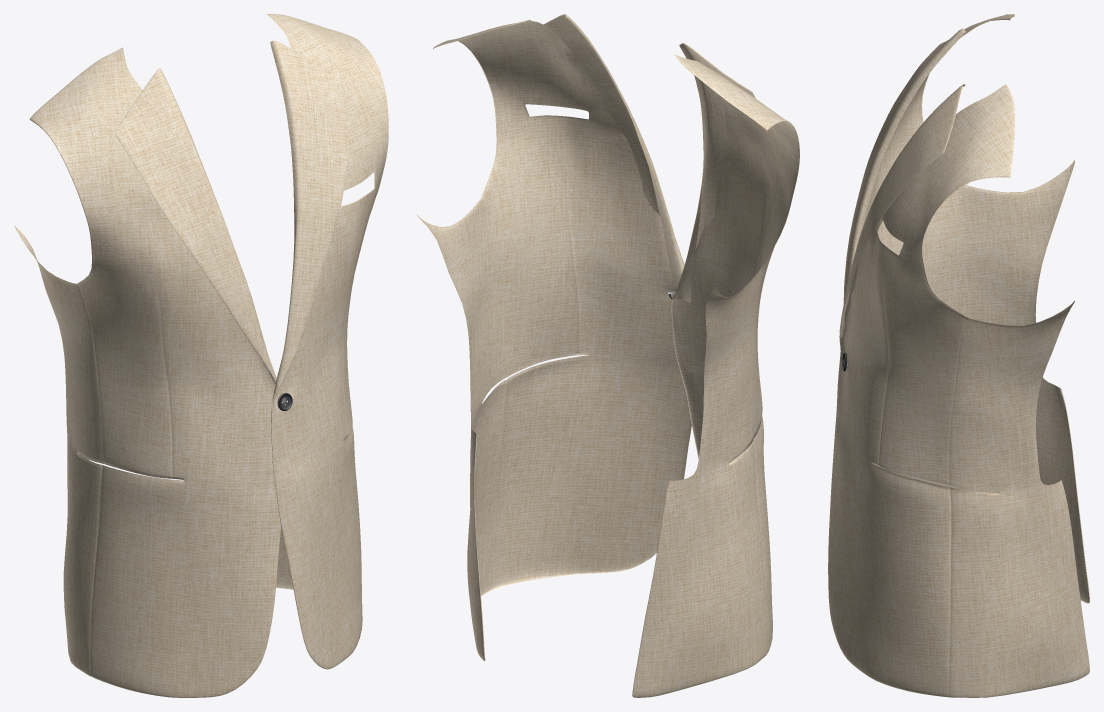
File: singlebuttonnoch.glb
3 views of the same model, side by side, from view 1: azimuth 30°, elevation 25°; view 2: azimuth 150°, elevation 25°; view 3: azimuth 270°, elevation 25° (orthographic). The views are drawn at different scales.
Visible parts, largest first — view 1: notch_single_button1; view 2: notch_single_button1; view 3: notch_single_button1.
Boxes of the visible parts, x1,y1,x2,y2 form: notch_single_button1: (14, 14, 388, 697); notch_single_button1: (417, 14, 799, 697); notch_single_button1: (828, 14, 1089, 697).
Bounding box in the file's own units: 0.0585 × 0.1024 × 0.0411.
Materials: 4 (3 with a texture image).
